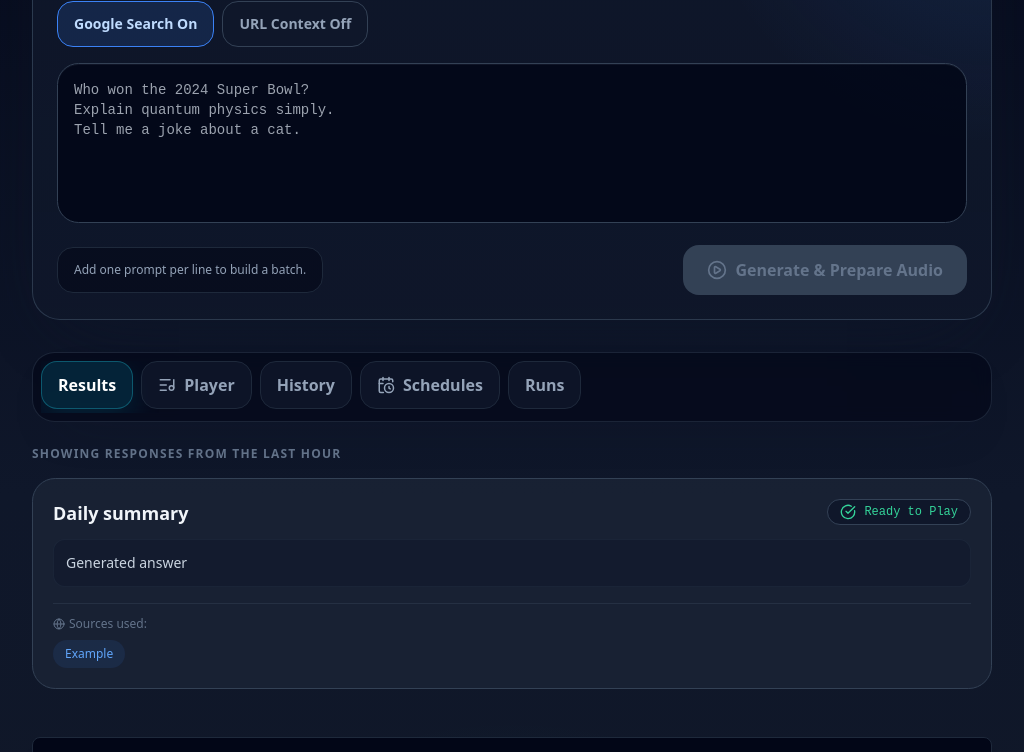
App button regression coverage › allows selecting a player item and exercising play, stop, and download controls
The width and height of the screenshot is (1024, 752).
(page scrolled)
Click the button "player" at point(196, 384), box [141, 360, 252, 408]
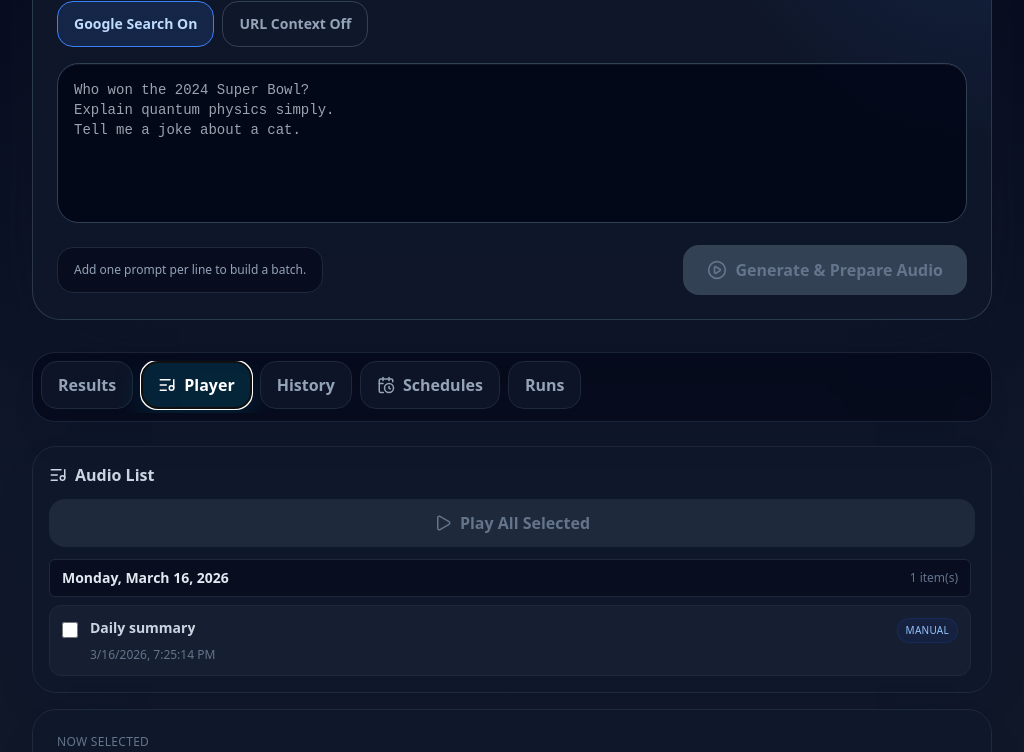
Click the button "Daily summary Manual 3/16/2026, 7:25:14 PM" at point(143, 627), box [90, 618, 958, 662]
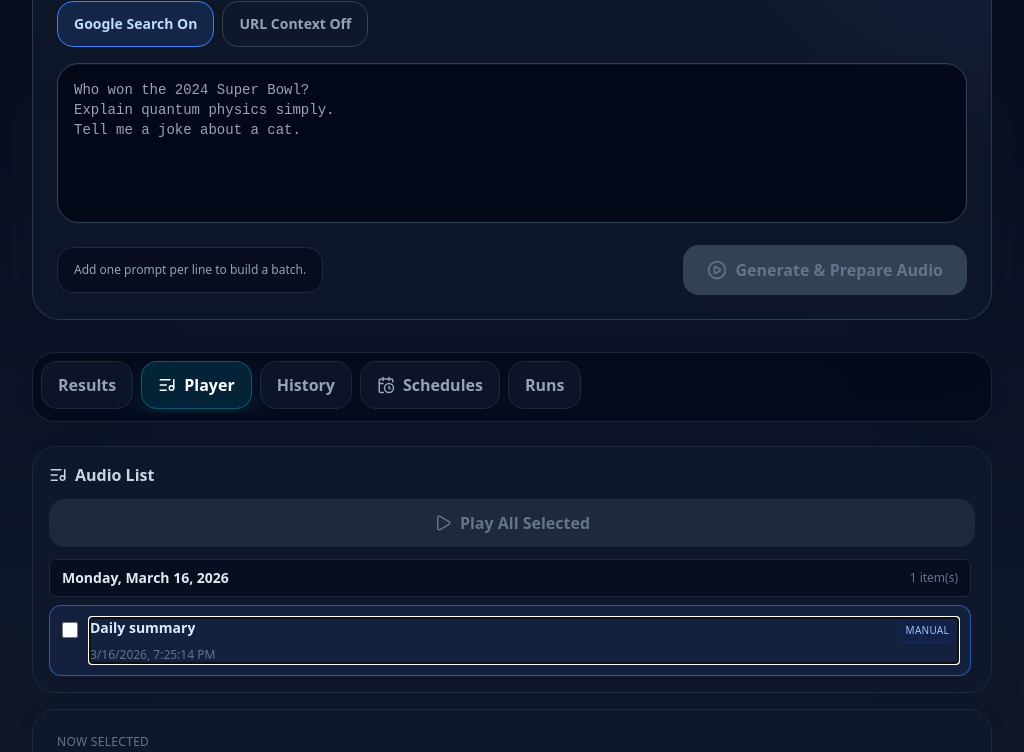
Check: the button "Play All Selected" is disabled, box [49, 498, 975, 546]
Click the checkbox named "select player item daily summary" at point(70, 630), box [62, 622, 78, 638]
(page scrolled)
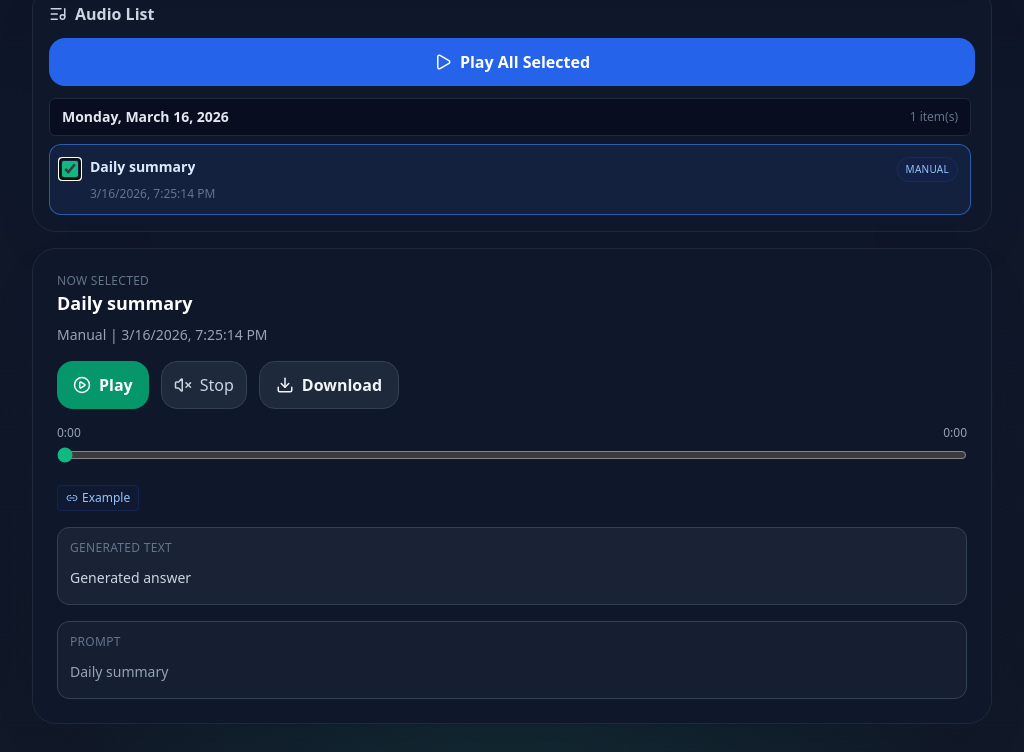
Check: the button "Play All Selected" is enabled, box [49, 38, 975, 86]
Click the button "Play" at point(103, 384), box [57, 360, 149, 408]
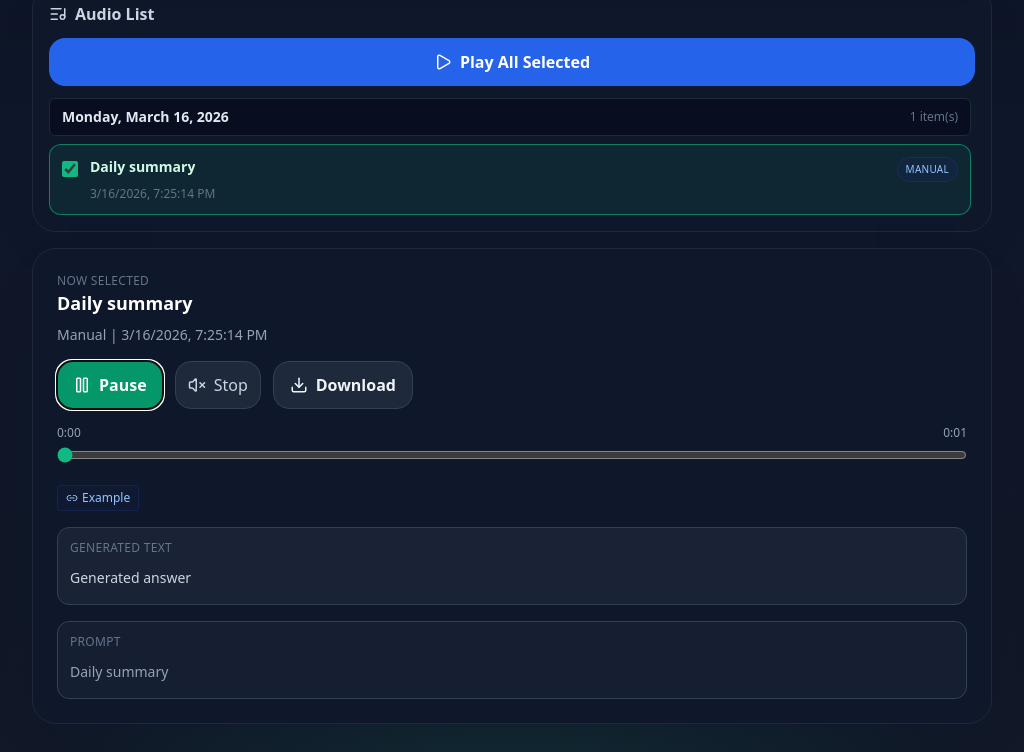
Check: the button "Pause" is shown, box [57, 360, 163, 408]
Click the button "Stop" at point(218, 384), box [175, 360, 261, 408]
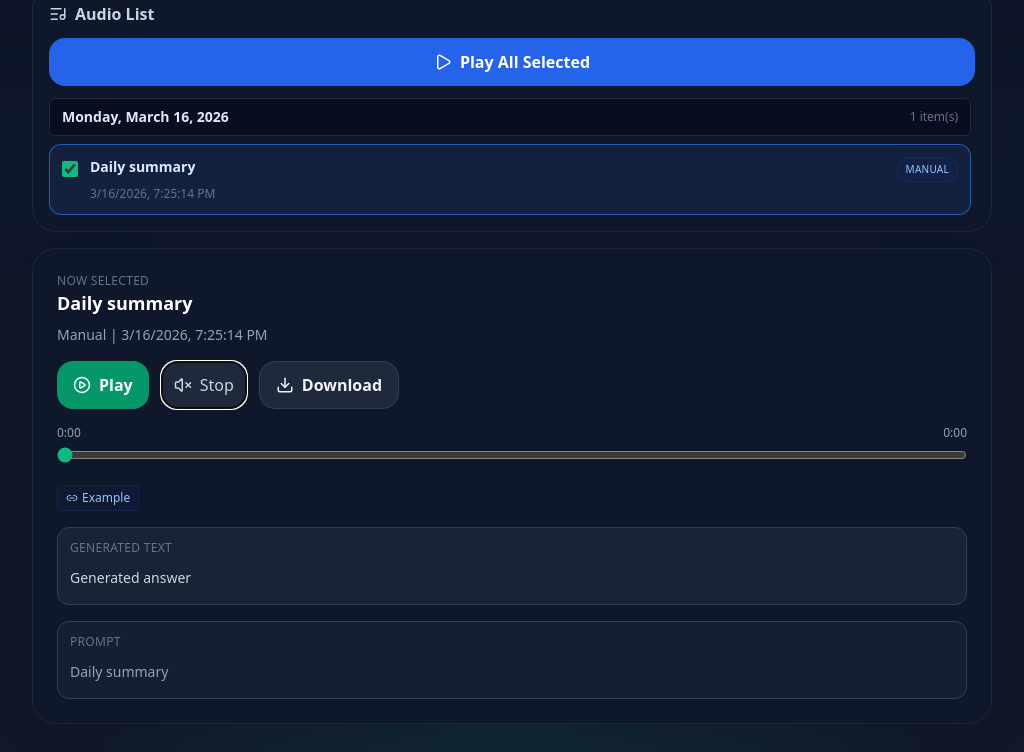
Check: the button "Play" is shown, box [57, 360, 149, 408]
